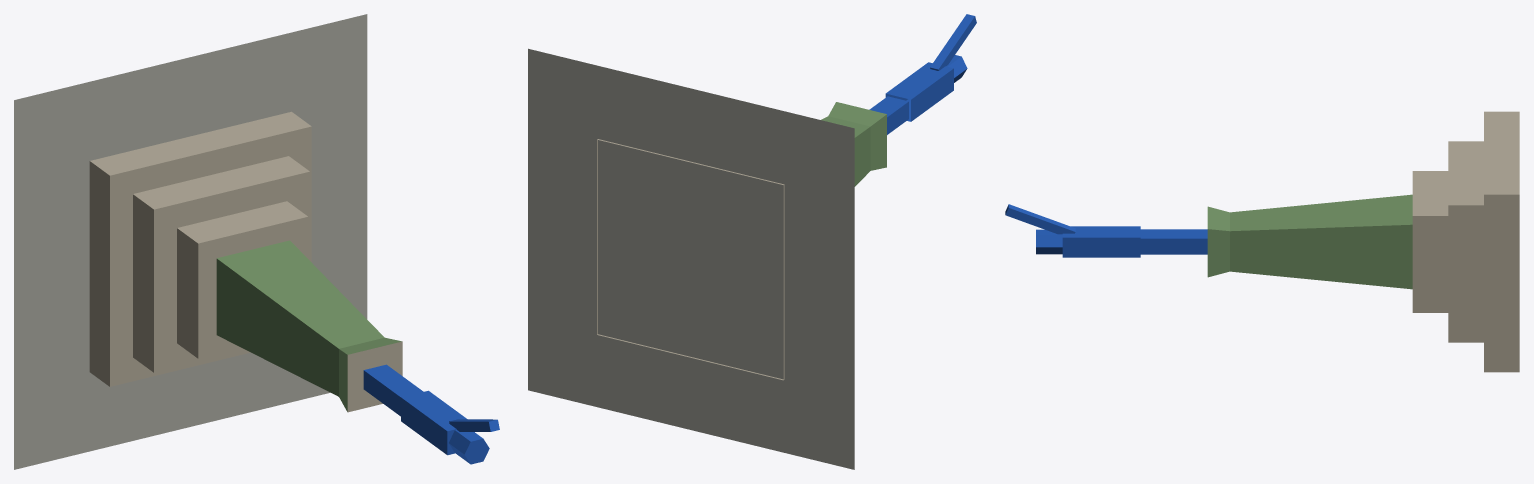
The picture shows the model from 3 angles, left to right: view 1: azimuth 30°, elevation 25°; view 2: azimuth 150°, elevation 25°; view 3: azimuth 270°, elevation 25°; orthographic projection. The views are drawn at different scales.
Visible parts, largest first — view 1: object_statue; view 2: object_statue; view 3: object_statue.
Boxes of the visible parts, x1=… form: object_statue: x1=14, y1=14, x2=499, y2=469; object_statue: x1=528, y1=14, x2=976, y2=469; object_statue: x1=1005, y1=111, x2=1519, y2=372.
Size of the model in its own units: 15.4 by 15.4 by 23.07.
